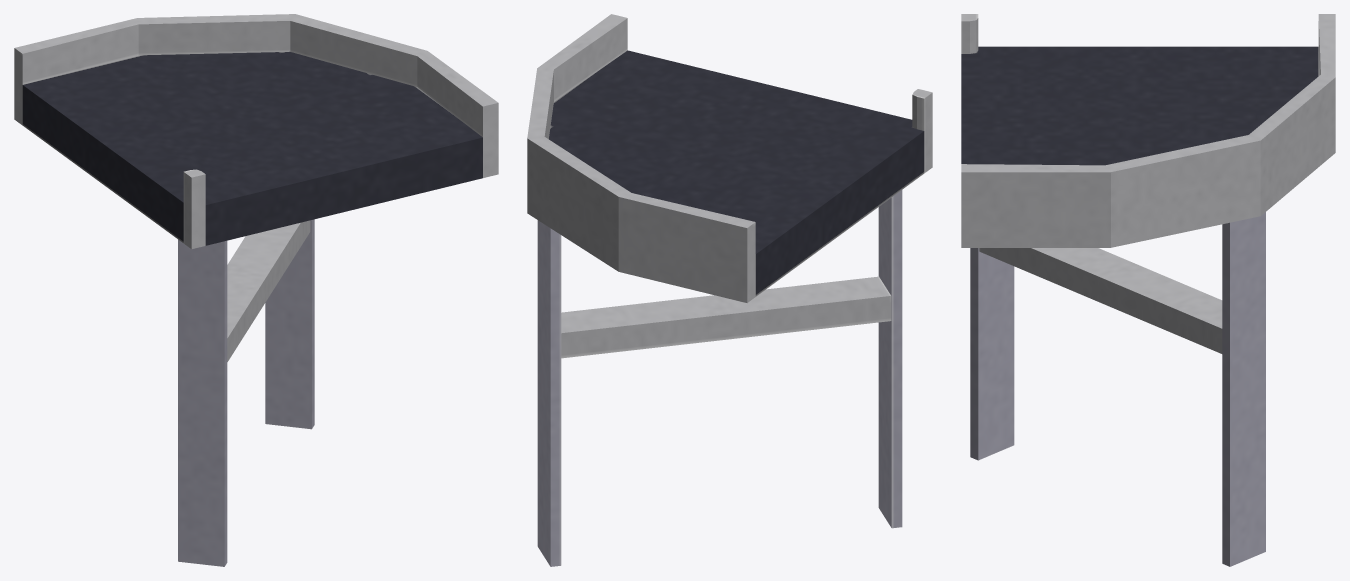
The model's file is Conveyor_curve.fbx.
3 views of the same model, side by side, from view 1: azimuth 30°, elevation 25°; view 2: azimuth 150°, elevation 25°; view 3: azimuth 270°, elevation 25° (orthographic). The views are drawn at different scales.
Visible parts, largest first — view 1: conv.001; view 2: conv.001; view 3: conv.001.
Boxes of the visible parts, x1,y1,x2,y2 form: conv.001: (14, 14, 498, 566); conv.001: (527, 14, 932, 566); conv.001: (961, 14, 1335, 566).
Size of the model in its own units: 100 by 125 by 100.
